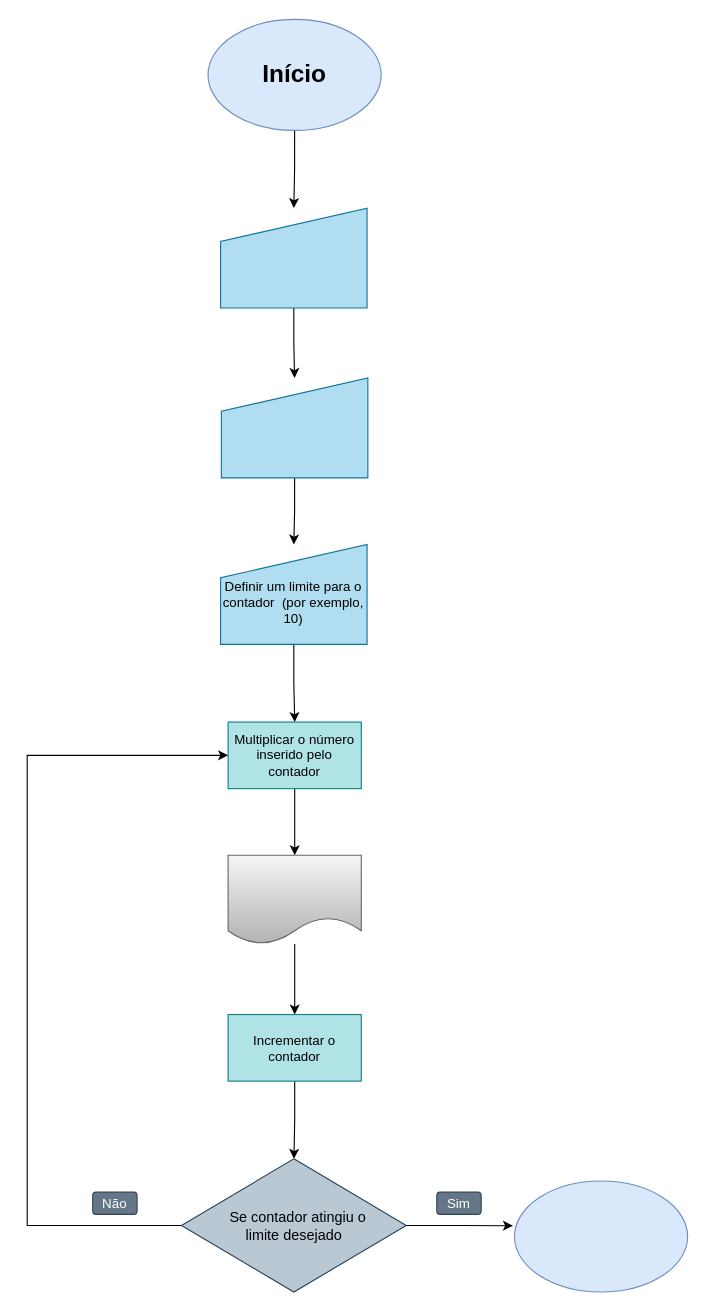
This 707x1312 diagram has some shape labels left out. Each missing label, with the centre of its shape:
Definir um contador iniciado em 1: point (294, 427)
Exibir o resultado: point (294, 899)
Fim: point (600, 1236)
Solicitar número para calcular a tabuada: point (293, 257)
